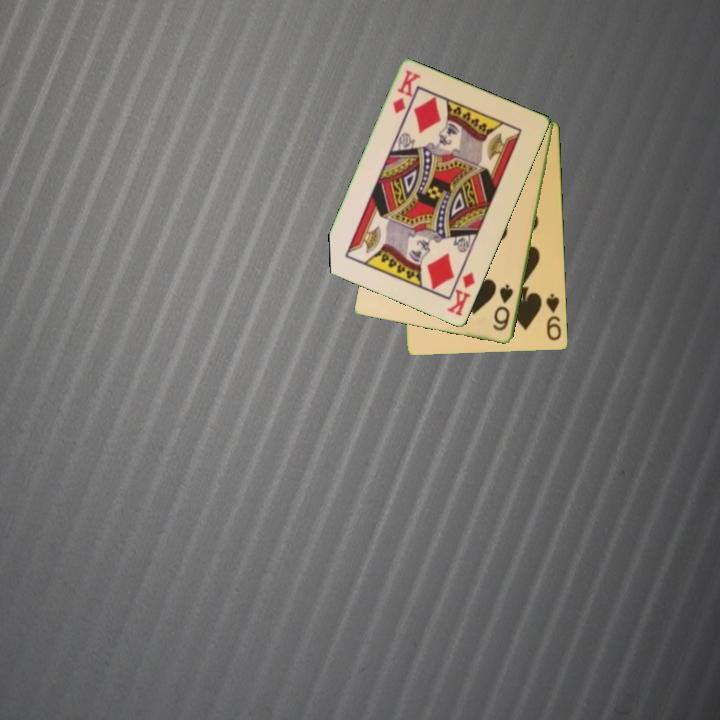6s: (489, 281, 516, 334)
9s: (542, 290, 564, 343)
Kd: (443, 269, 478, 319), (389, 67, 423, 117)
